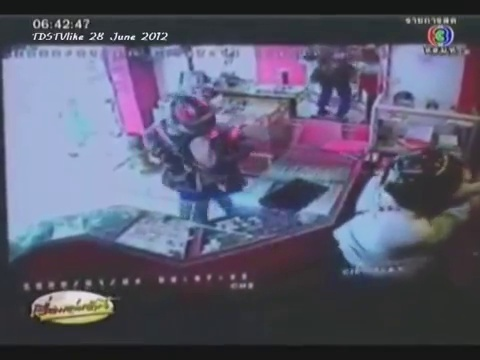helmet: (387, 150, 463, 213), (162, 99, 215, 142)
